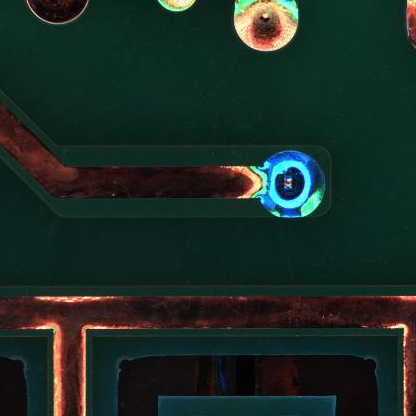spot: (259, 150, 327, 222)
